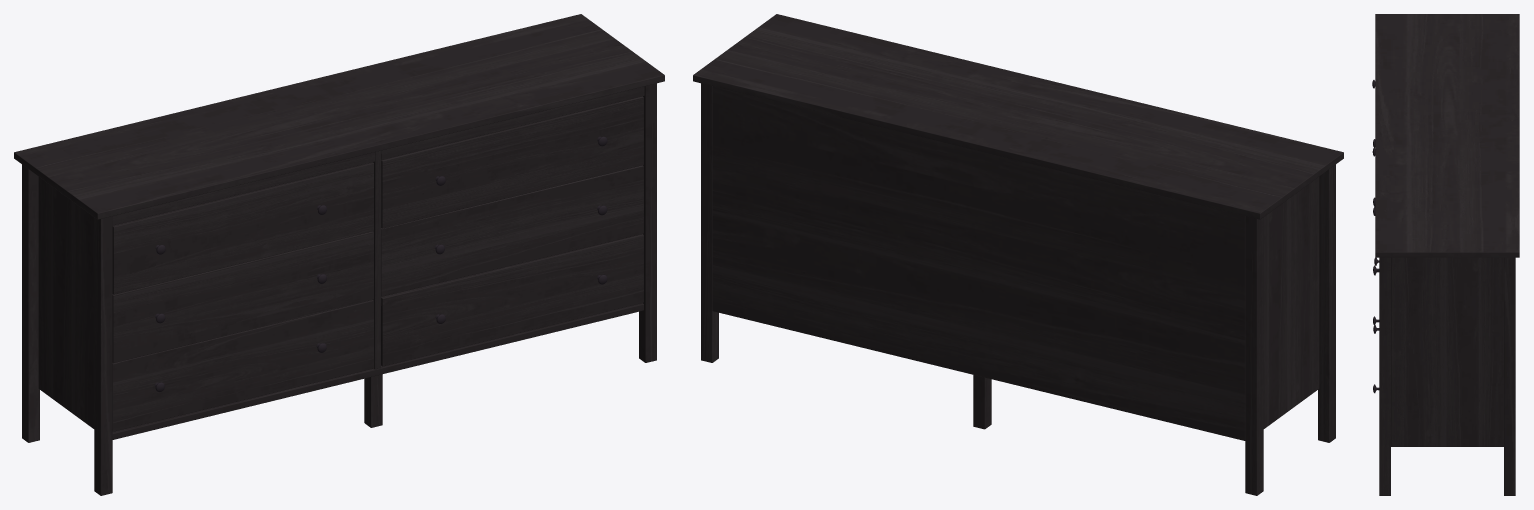
The model's file is table-drawer.glb.
3 renders of one model, left to right at view 1: azimuth 30°, elevation 25°; view 2: azimuth 150°, elevation 25°; view 3: azimuth 270°, elevation 25°, orthographic. The views are drawn at different scales.
Parts seen in each view (by area): view 1: polySurface4136; view 2: polySurface4136; view 3: polySurface4136.
Part boxes in pixels (bbox=[...]): polySurface4136: bbox=[14, 14, 664, 495]; polySurface4136: bbox=[693, 14, 1343, 495]; polySurface4136: bbox=[1372, 14, 1519, 495].
Size of the model in its own units: 1.72 by 0.8277 by 0.4492.
1 material, 1 textured.
